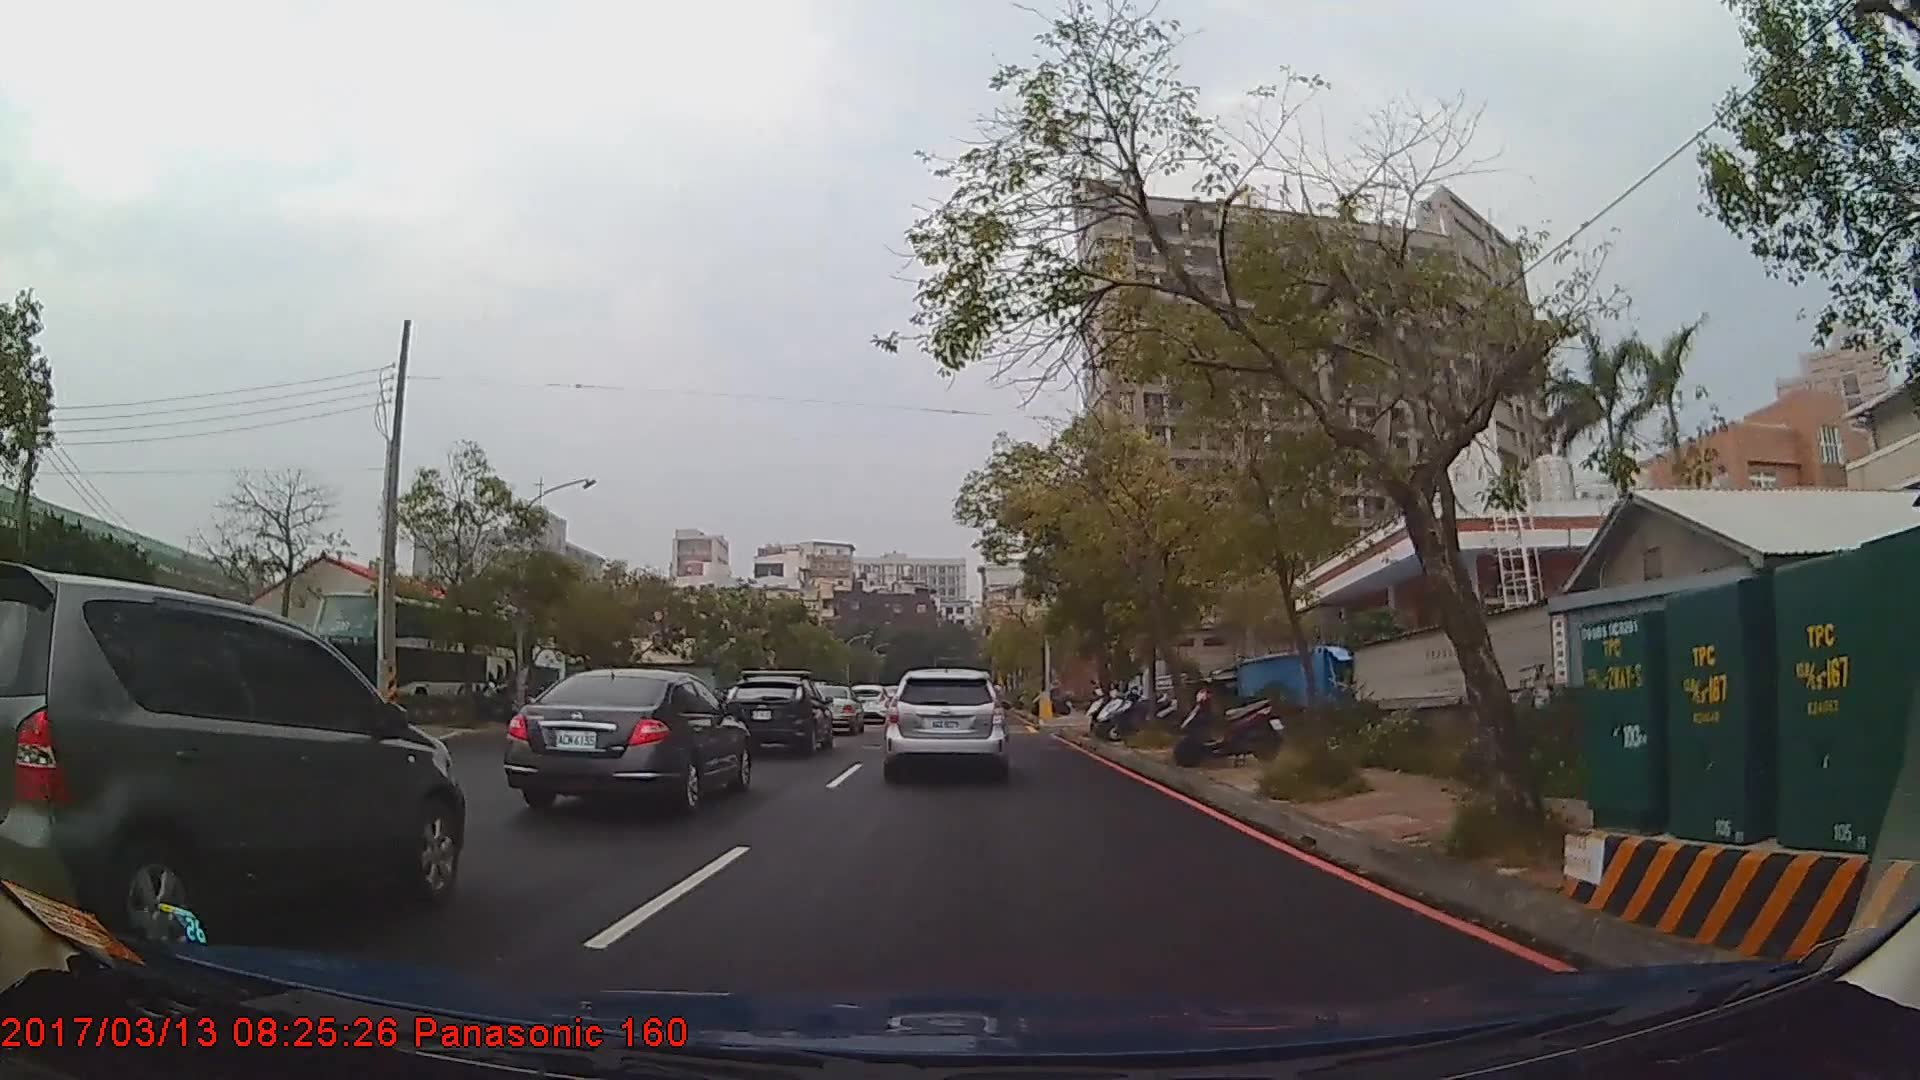vehicle: (0, 568, 462, 945), (501, 665, 752, 815), (311, 591, 516, 713), (882, 666, 1007, 781), (723, 669, 831, 756), (808, 684, 864, 736), (847, 682, 891, 723)
